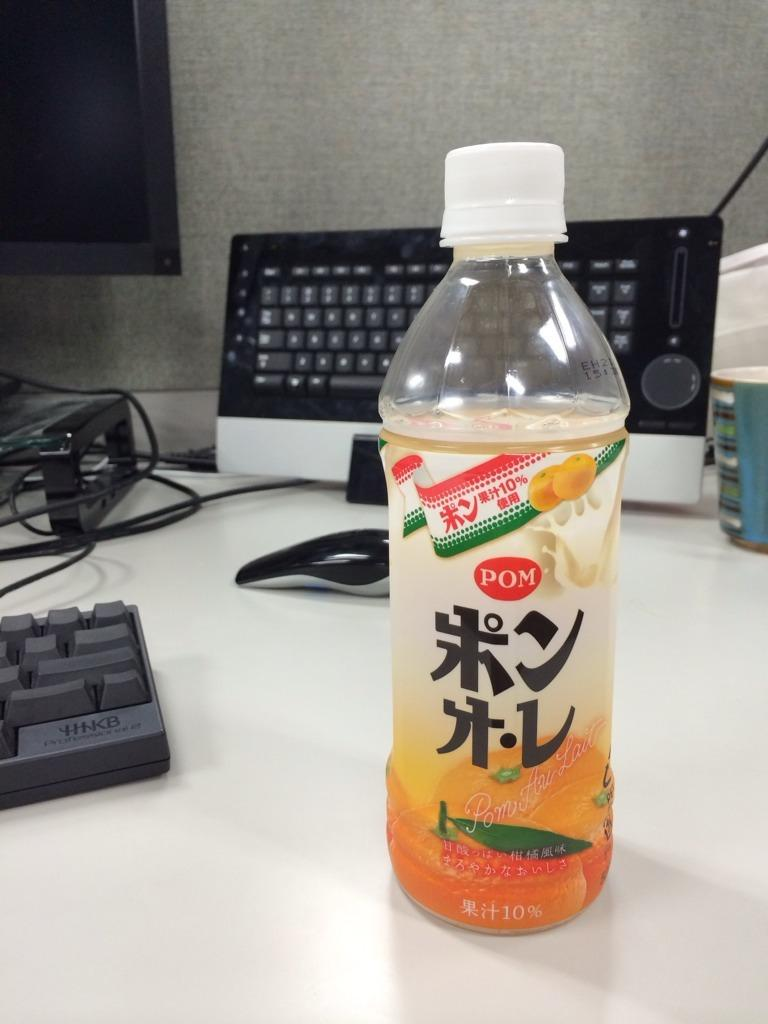Computer-keyboard: (220, 135, 767, 426), (0, 598, 174, 809)
